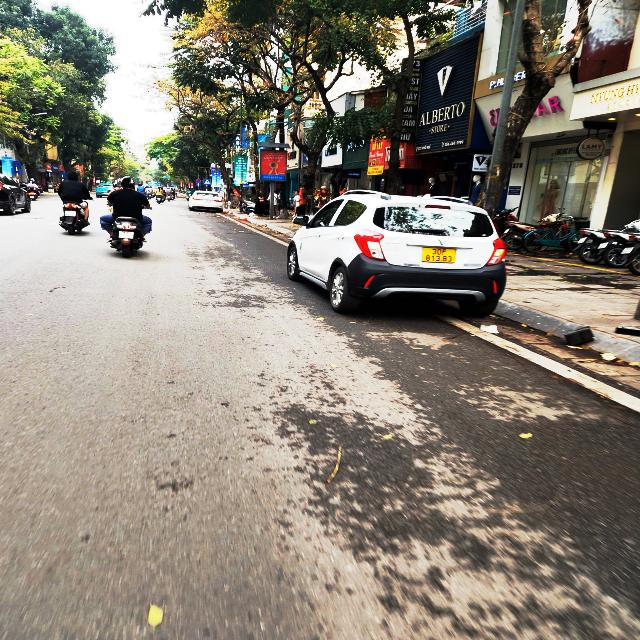license_plate: (423, 248, 457, 264)
